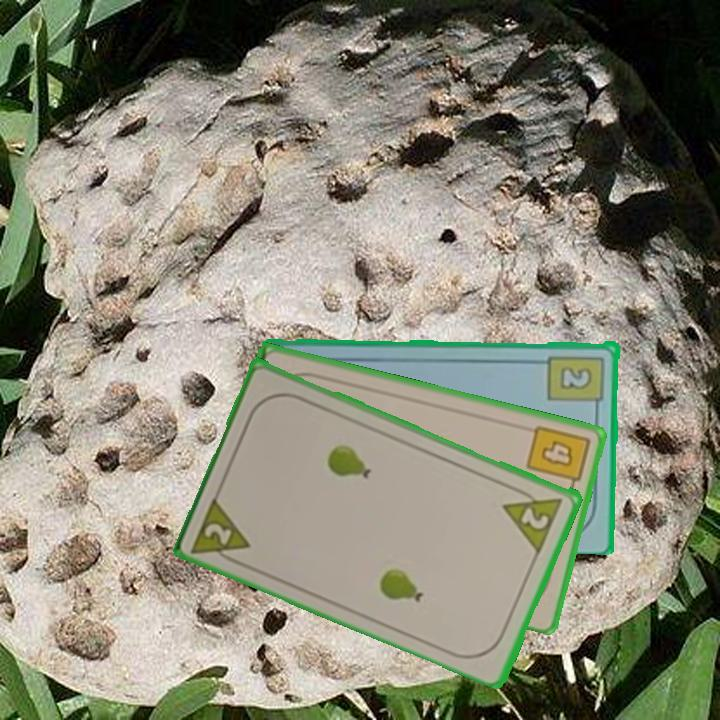2b: (546, 351, 607, 413)
2p: (188, 492, 254, 570), (499, 481, 567, 555)
4b: (523, 421, 593, 495)
